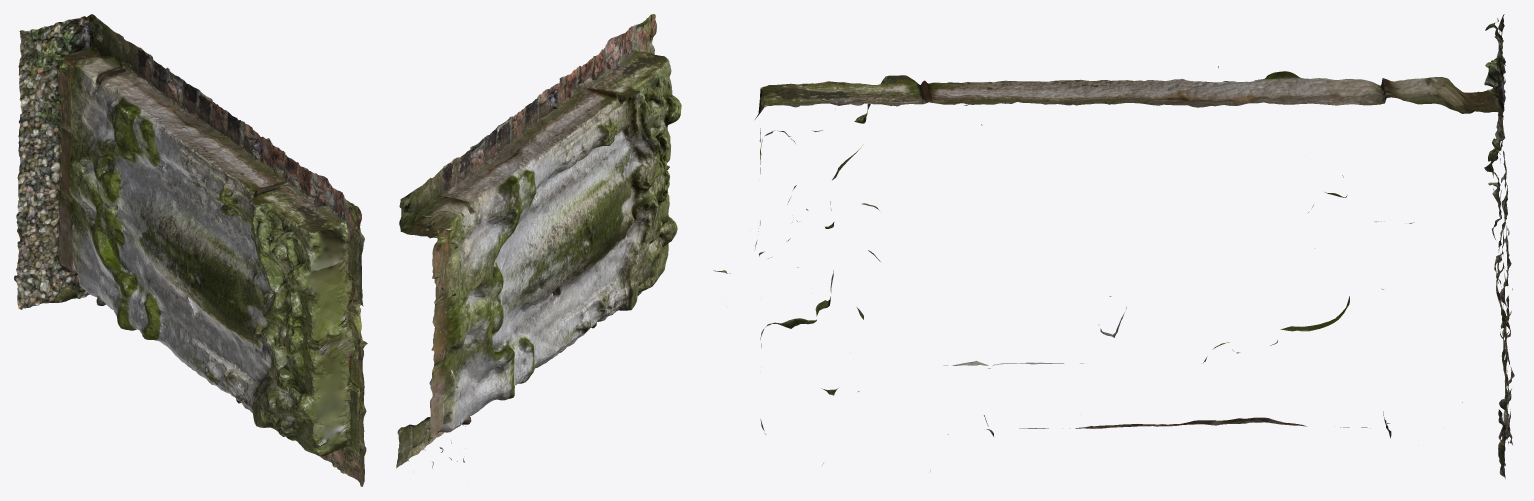
Rendered from stone_tablet_ii.glb.
The picture shows the model from 3 angles, left to right: view 1: azimuth 30°, elevation 25°; view 2: azimuth 150°, elevation 25°; view 3: azimuth 270°, elevation 25°; orthographic projection. The views are drawn at different scales.
Parts seen in each view (by area): view 1: default; view 2: default; view 3: default.
Boxes of the visible parts, x1=… form: default: x1=14, y1=14, x2=367, y2=486; default: x1=396, y1=14, x2=681, y2=468; default: x1=713, y1=14, x2=1514, y2=478.
Bounding box in the file's own units: 3.38 × 11.16 × 19.65.
Materials: 1 (1 with a texture image).
